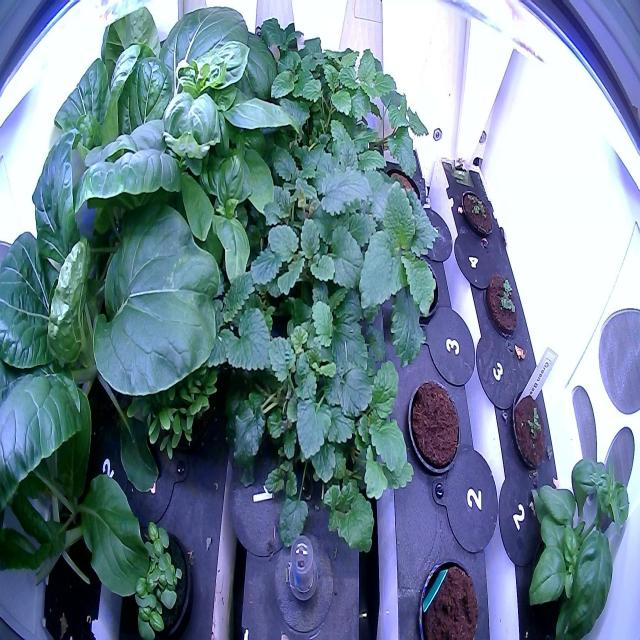germination: (506, 388, 553, 481), (483, 272, 527, 346), (456, 178, 496, 247)
pod: (404, 374, 464, 480), (413, 550, 483, 639)
